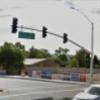traffic lights: (12, 18, 18, 33), (42, 27, 48, 37), (63, 33, 68, 43)
